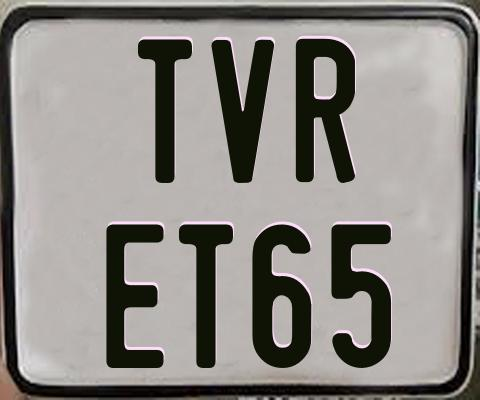5: (331, 221, 392, 365)
6: (251, 222, 310, 367)
E: (106, 222, 168, 369)
R: (293, 36, 353, 185)
T: (135, 38, 195, 183), (179, 223, 233, 372)
V: (210, 37, 277, 183)
